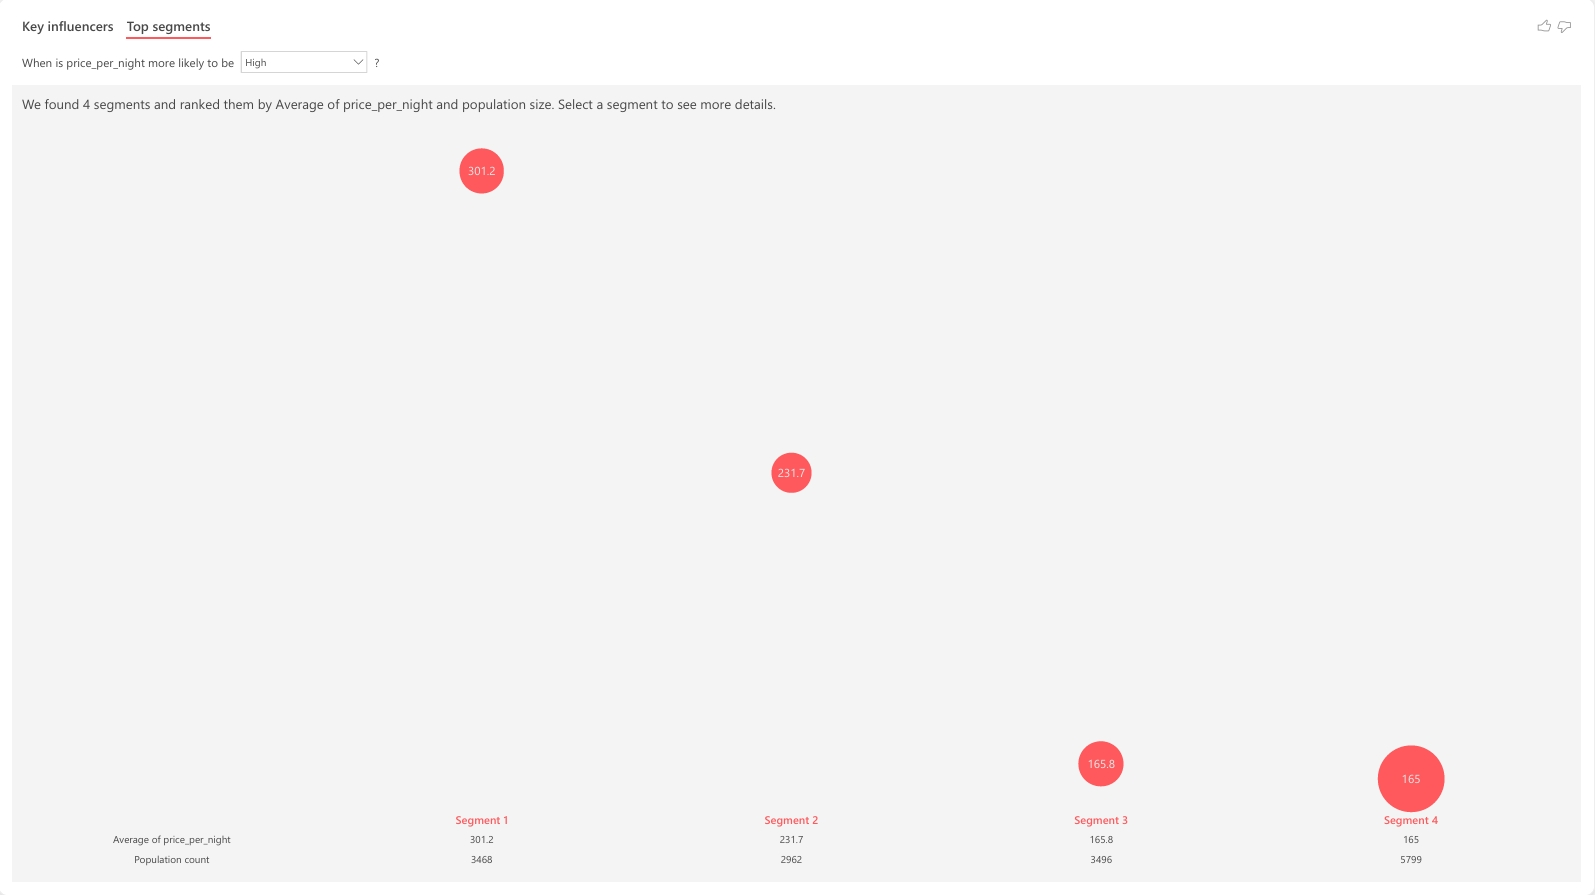

This screenshot's page, from the dashboard's own definition file:
{"tool":"powerbi","page":{"name":"Price Influencers","canvas":[1920,1080],"ordinal":1},"visuals":[{"type":"keyDriversVisual","fields":{"ExplainBy":["dim_city.city","dim_room_type.room_type","fact_listings.person_capacity","dim_day_type.day_type","fact_listings.bedrooms","fact_listings.dist","fact_listings.metro_dist","fact_listings.attr_index_norm","fact_listings.rest_index_norm","fact_listings.cleanliness_rating","fact_listings.host_is_superhost","fact_listings.multi"],"Target":["fact_listings.price_per_night"]},"box":[0,0,1920.1,1080.4],"z":0}]}

Visuals, with their boxes on the page's 1920x1080 design canvas (x1, y1, x2, y2). These are canvas units, not pixel positions in the 1595x895 screenshot, which may show the page scaled, cropped or inside an application window:
keyDriversVisual - dim_city.city x dim_room_type.room_type: (0, 0, 1920, 1080)
